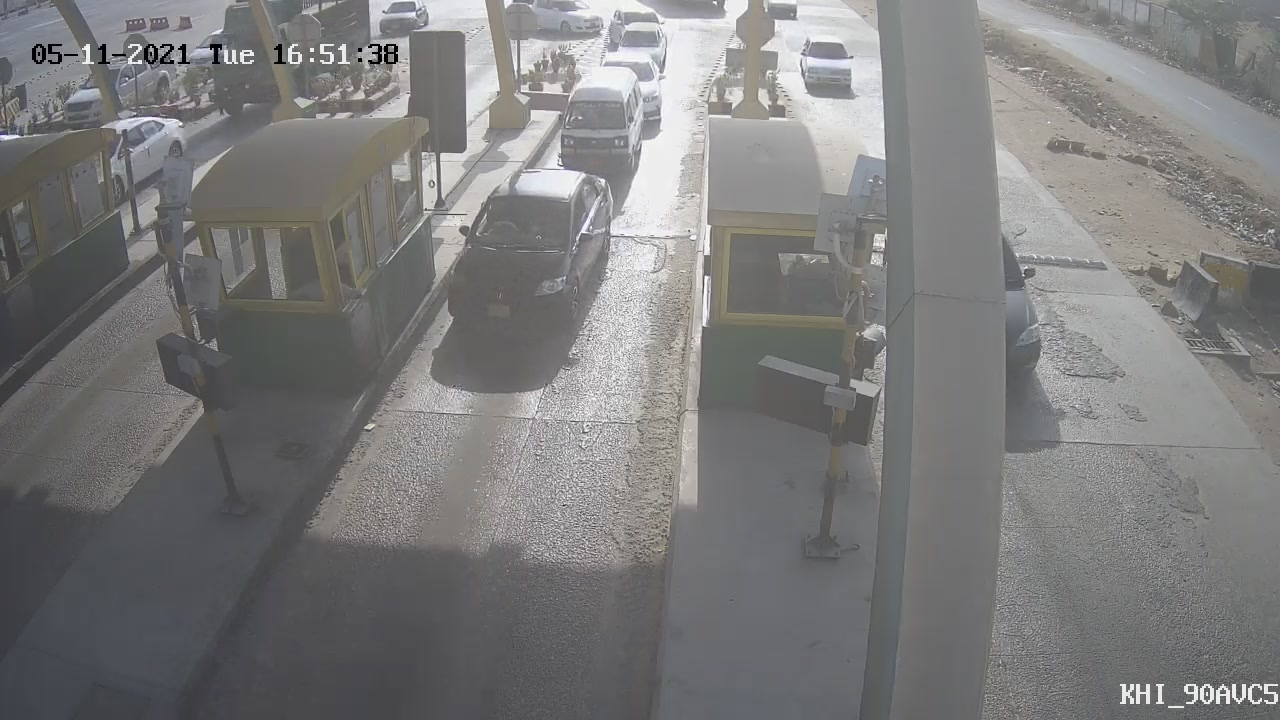F1: (430, 148, 633, 351), (538, 59, 664, 194)
